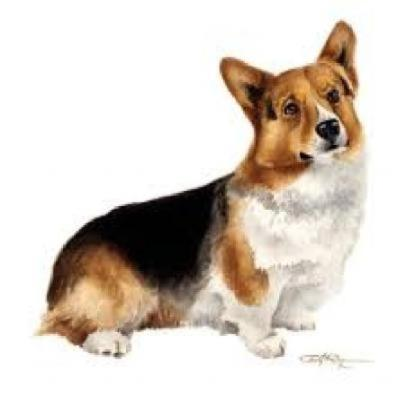dog: (34, 19, 367, 359)
